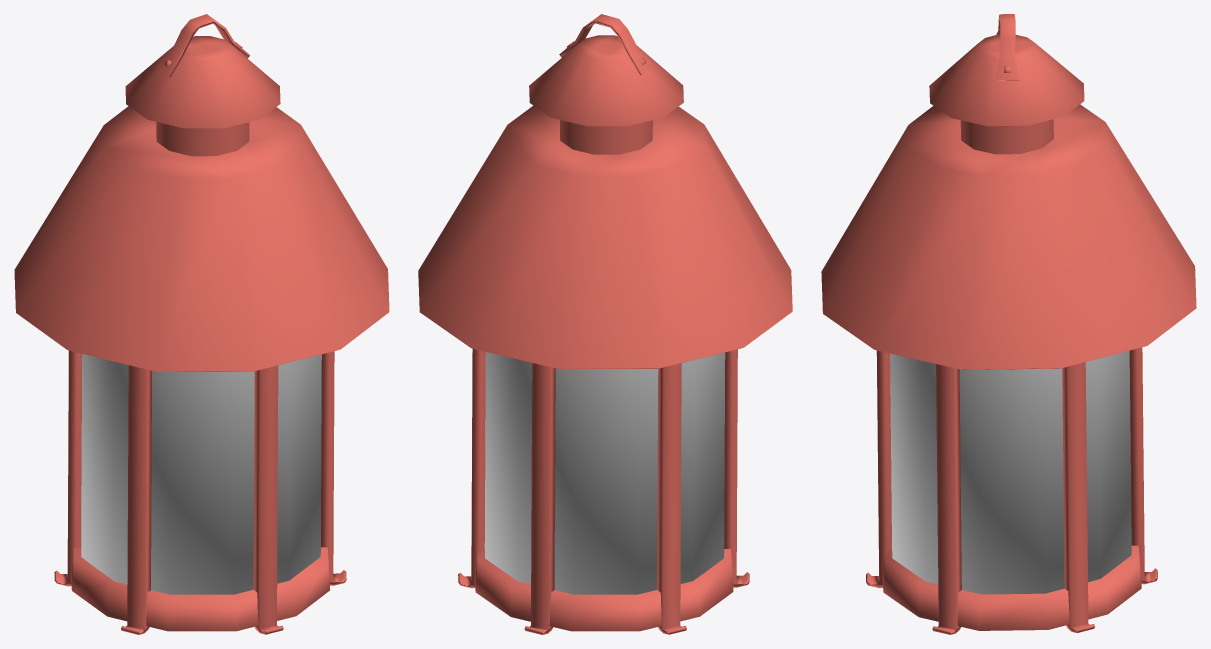
Rendered from Lantern_M.fbx.
3 renders of one model, left to right at view 1: azimuth 30°, elevation 25°; view 2: azimuth 150°, elevation 25°; view 3: azimuth 270°, elevation 25°, orthographic.
Parts seen in each view (by area): view 1: Lantern_LOD0; view 2: Lantern_LOD0; view 3: Lantern_LOD0.
Part boxes in pixels (x1,y1,x2,y2): Lantern_LOD0: (14,14,389,634); Lantern_LOD0: (418,14,792,634); Lantern_LOD0: (821,14,1196,634).
Size of what is drawn, in the model's own units: 24.01 by 39.96 by 24.01.
